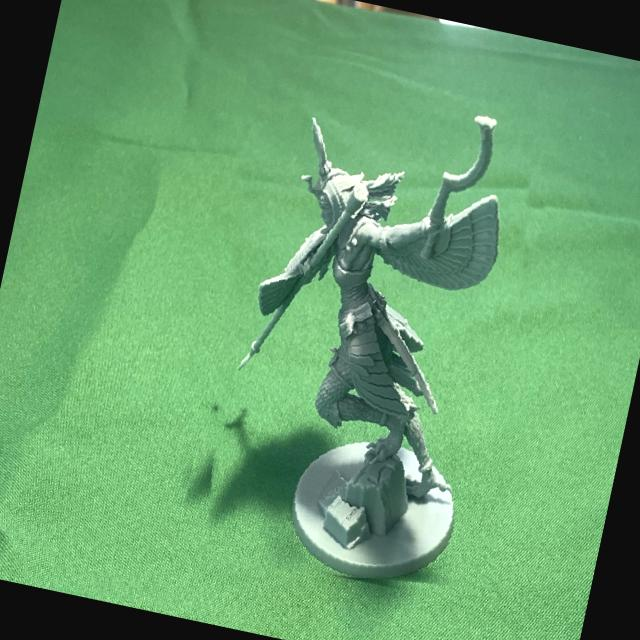isis: (158, 26, 584, 613)
